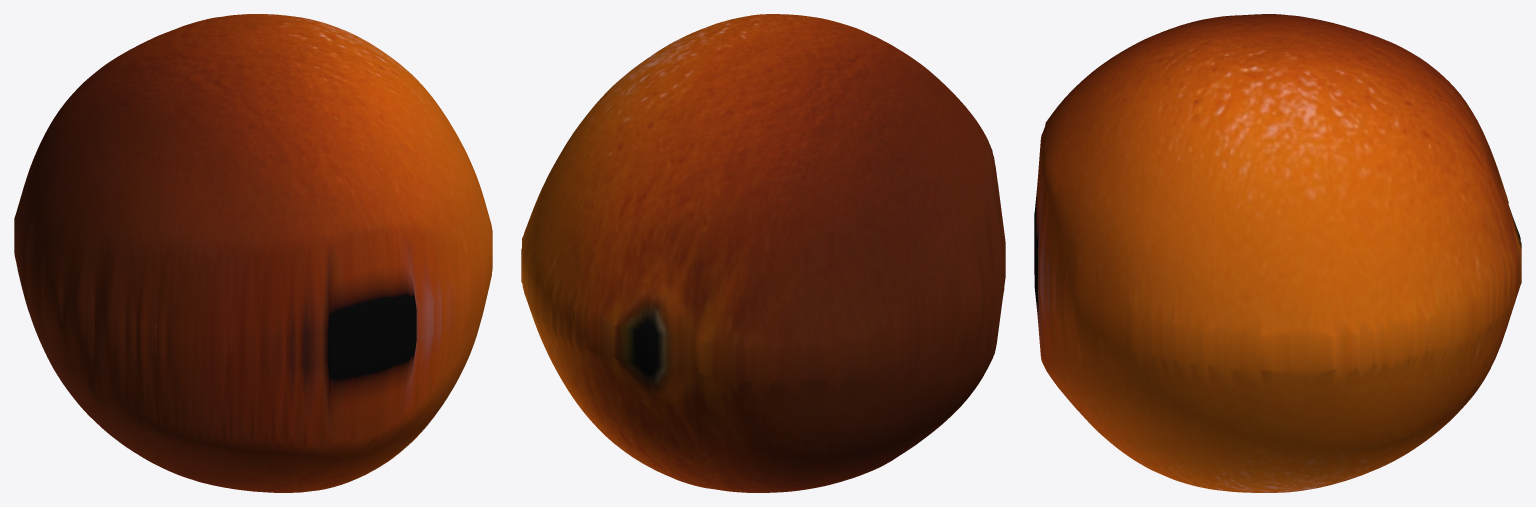
The model's file is orange_9_2.obj.
3 renders of one model, left to right at view 1: azimuth 30°, elevation 25°; view 2: azimuth 150°, elevation 25°; view 3: azimuth 270°, elevation 25°, orthographic.
Parts seen in each view (by area): view 1: Grid; view 2: Grid; view 3: Grid.
Boxes of the visible parts, x1,y1,x2,y2 form: Grid: [14, 14, 492, 492]; Grid: [521, 14, 1005, 492]; Grid: [1034, 14, 1521, 492].
Bounding box in the file's own units: 1.64 × 1.61 × 1.65.
Materials: 1 (1 with a texture image).
